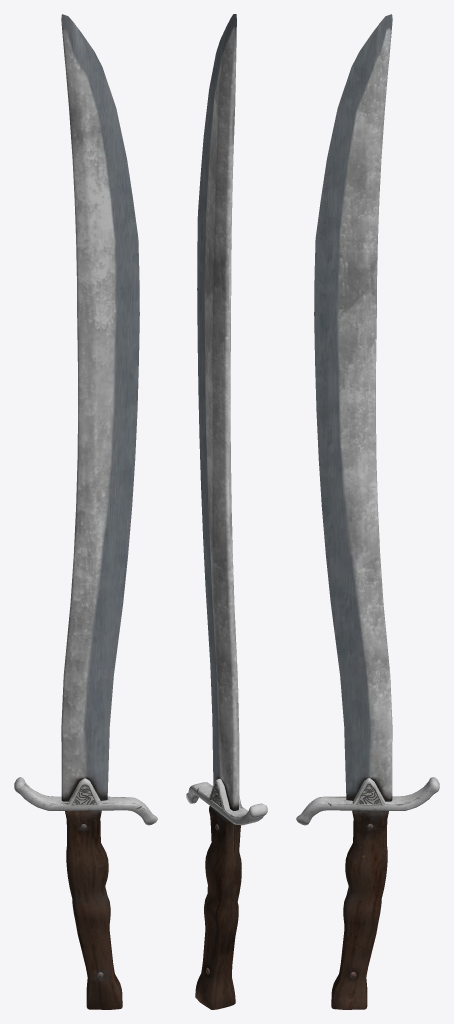
Rendered from machete.glb.
3 renders of one model, left to right at view 1: azimuth 90°, elevation 25°; view 2: azimuth 210°, elevation 25°; view 3: azimuth 270°, elevation 25°, orthographic.
Visible parts, largest first — view 1: wooden_handle_saber; view 2: wooden_handle_saber; view 3: wooden_handle_saber.
Boxes of the visible parts, x1,y1,x2,y2 form: wooden_handle_saber: (14, 14, 157, 1009); wooden_handle_saber: (186, 14, 267, 1009); wooden_handle_saber: (296, 14, 439, 1009).
Size of the model in its own units: 0.0257 by 0.9355 by 0.1228.
Materials: 1 (1 with a texture image).
